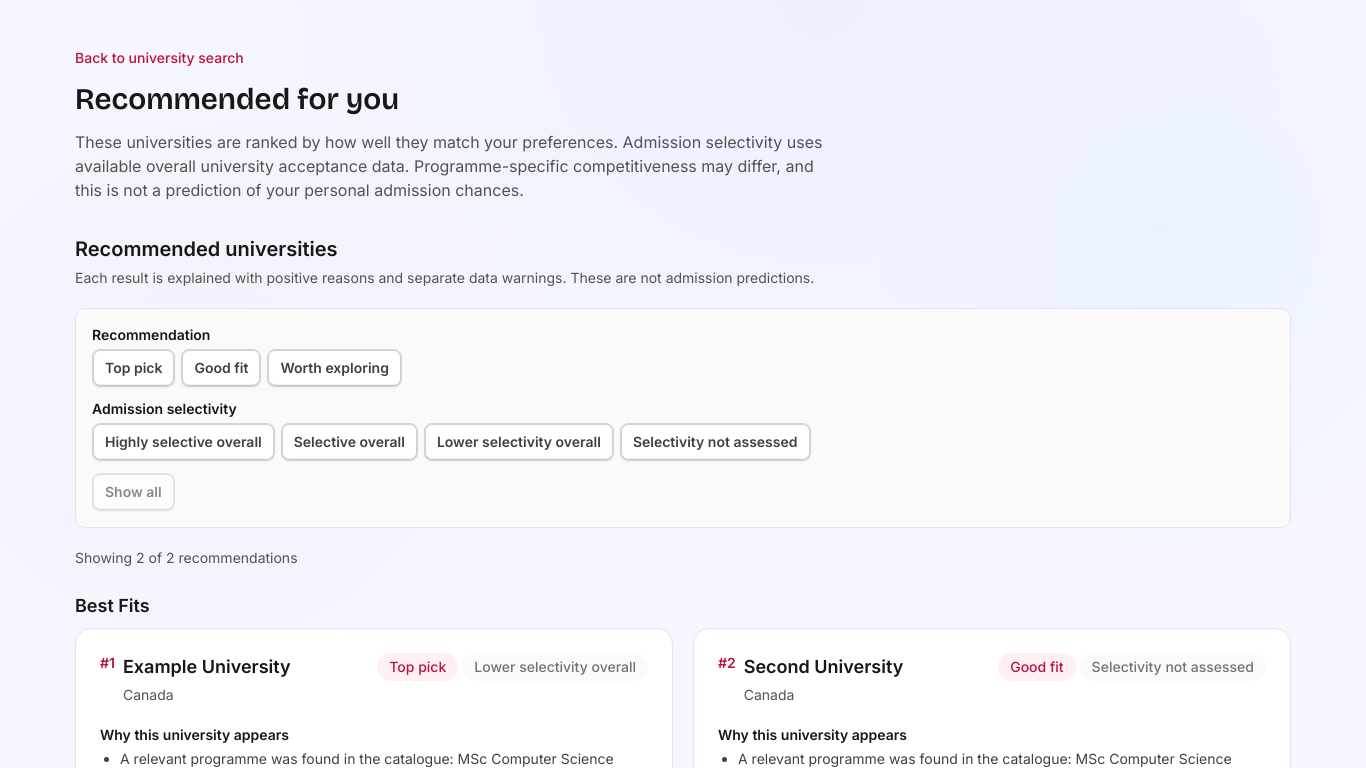
Test: UniversityMatchResults › filters lower selectivity separately from not assessed and resets it with show all
Expected: the button "Selectivity not assessed" is shown, [620,423,810,461]
Click the button "Lower selectivity overall" at {"x": 519, "y": 442}, box [424,423,614,461]
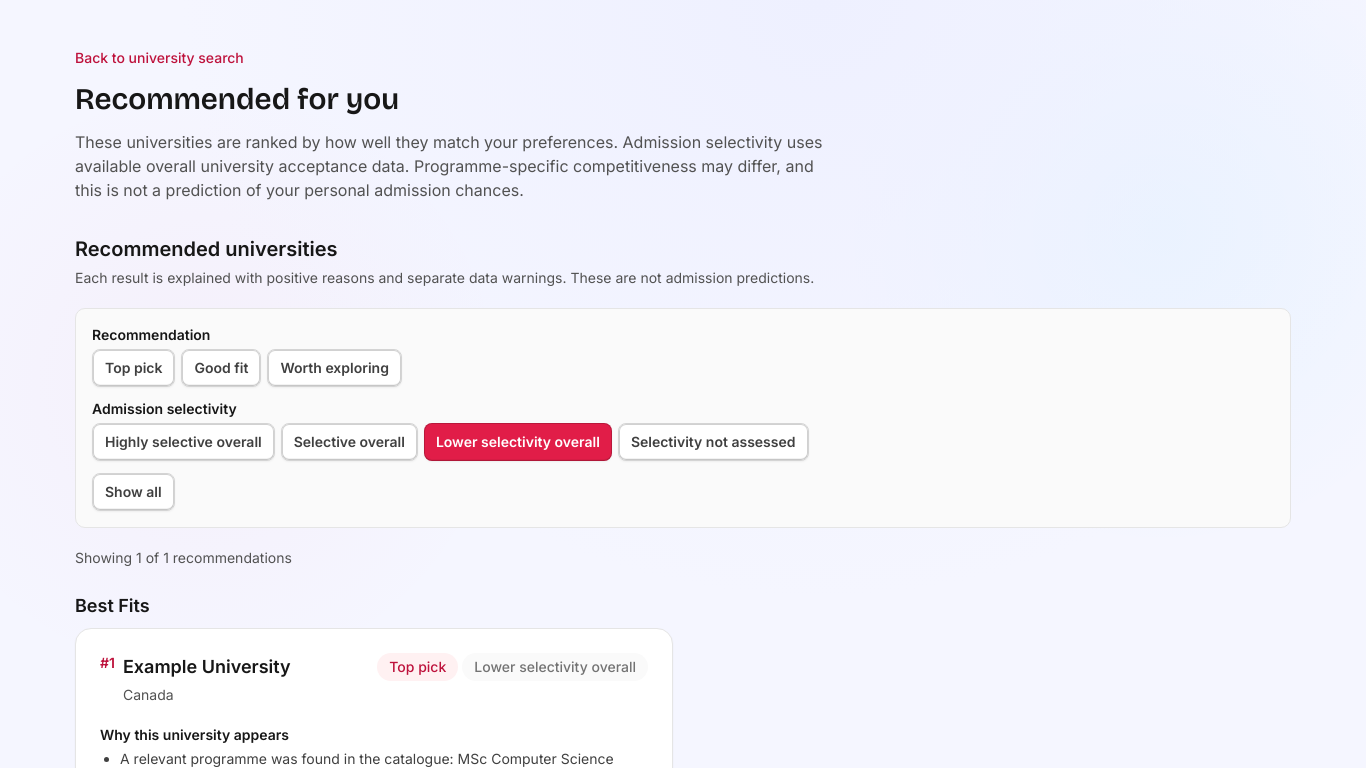
Expected: the text named "Recommendation rank 1" is shown, [100,654,115,671]
Expected: the button "Lower selectivity overall" is pressed, [424,423,612,461]
Click the button "Show all" at {"x": 133, "y": 492}, box [92,473,175,511]
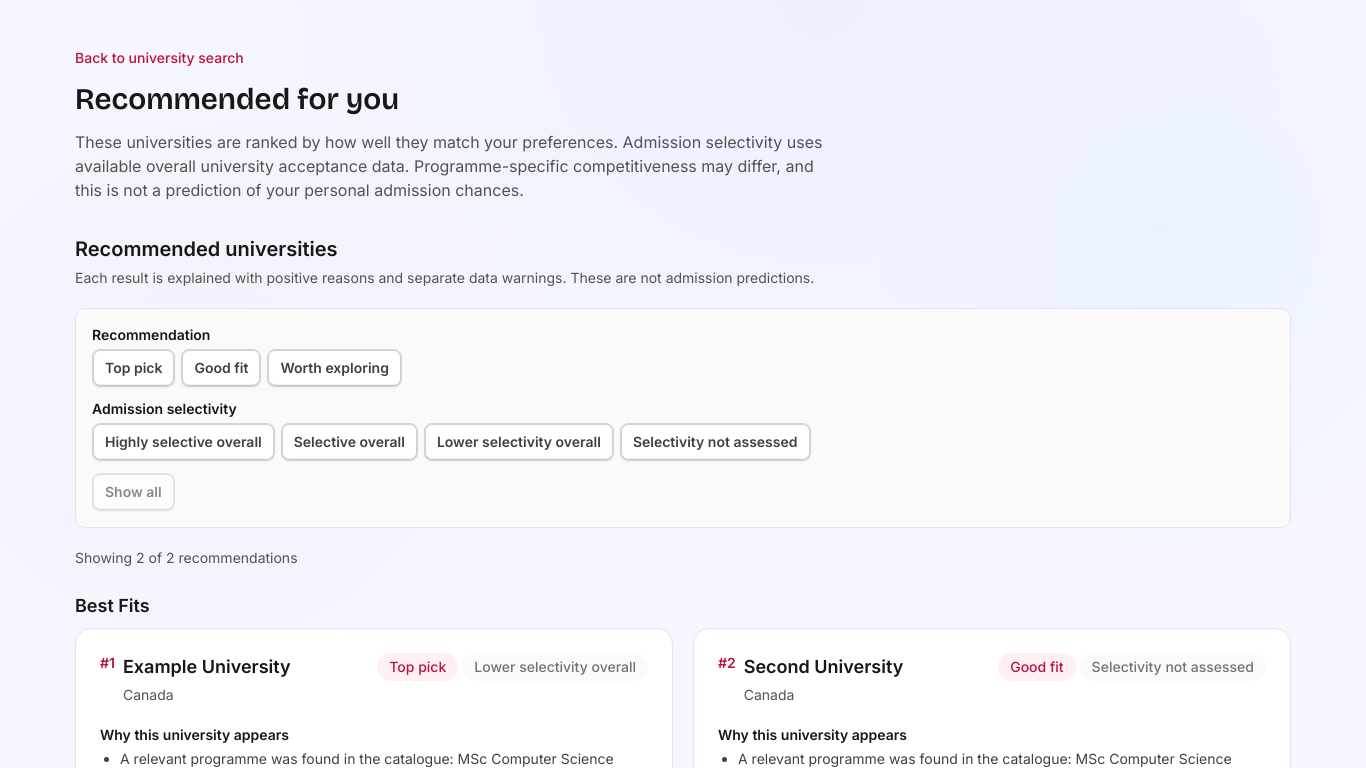
Expected: the text named "Recommendation rank 2" is shown, [718,654,736,671]
